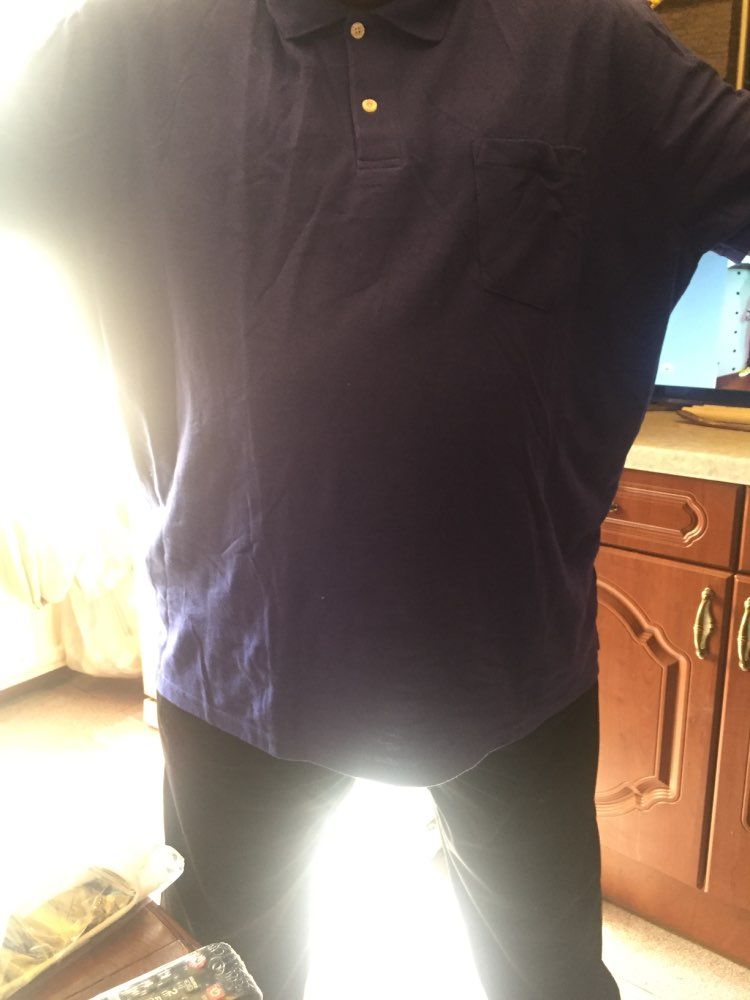shirts: (1, 5, 750, 775)
